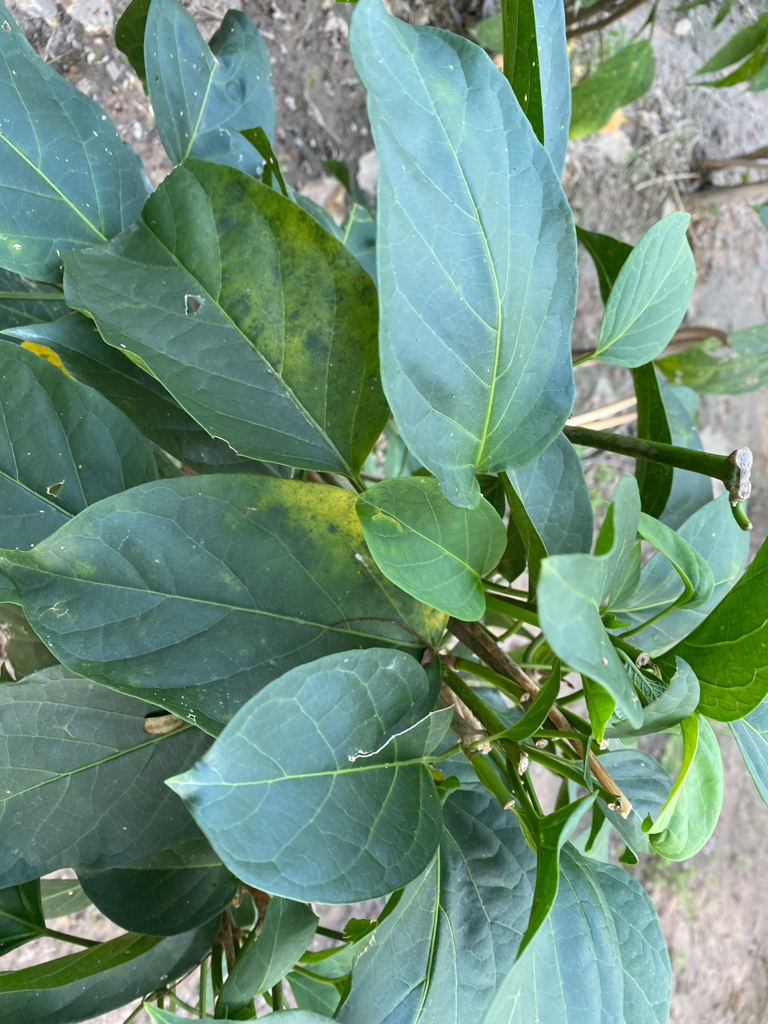Pepper yellow leaf: (217, 161, 380, 412), (263, 473, 375, 573)
